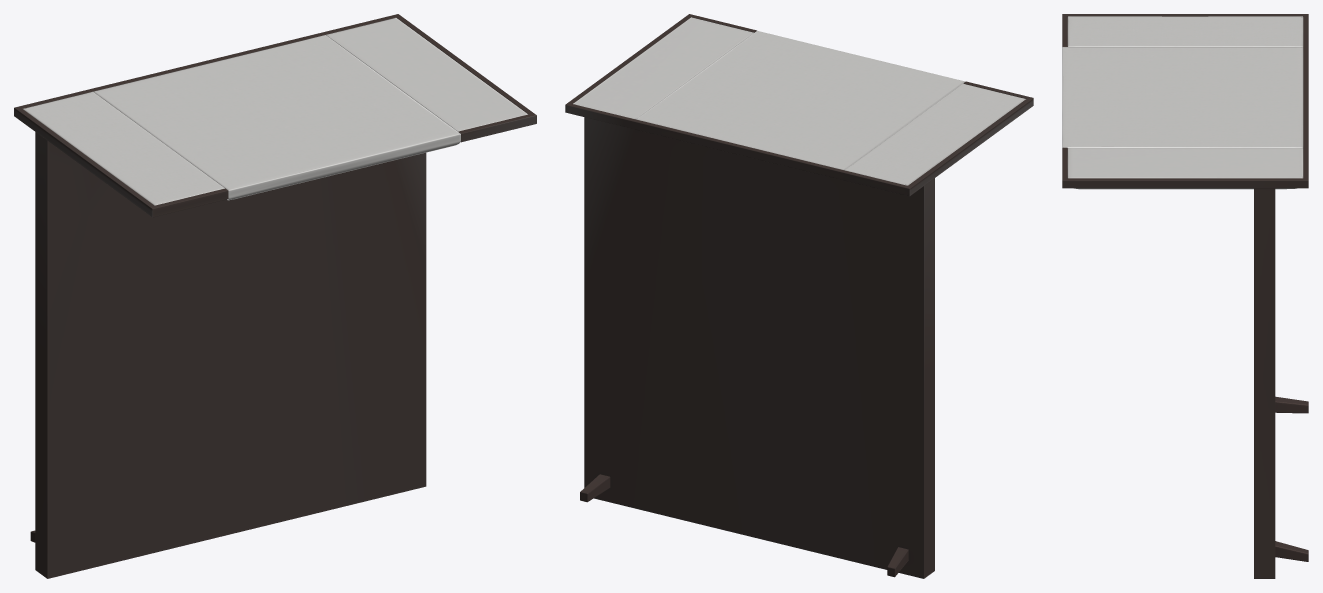
File: raw_model.glb
3 views of the same model, side by side, from view 1: azimuth 30°, elevation 25°; view 2: azimuth 150°, elevation 25°; view 3: azimuth 270°, elevation 25° (orthographic). The views are drawn at different scales.
Visible parts, largest first — view 1: raw_model.004; view 2: raw_model.004; view 3: raw_model.004.
Boxes of the visible parts, box(x1,y1,x2,y2) form: raw_model.004: box(14, 14, 536, 578); raw_model.004: box(565, 14, 1033, 578); raw_model.004: box(1062, 14, 1308, 578).
Bounding box in the file's own units: 1.83 × 2.04 × 1.14.
1 material, 1 textured.
